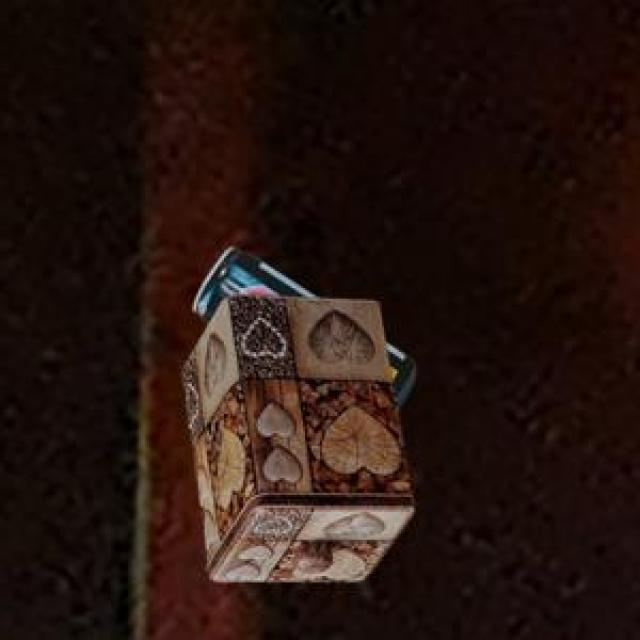logam: (187, 291, 417, 579), (197, 244, 341, 379)
